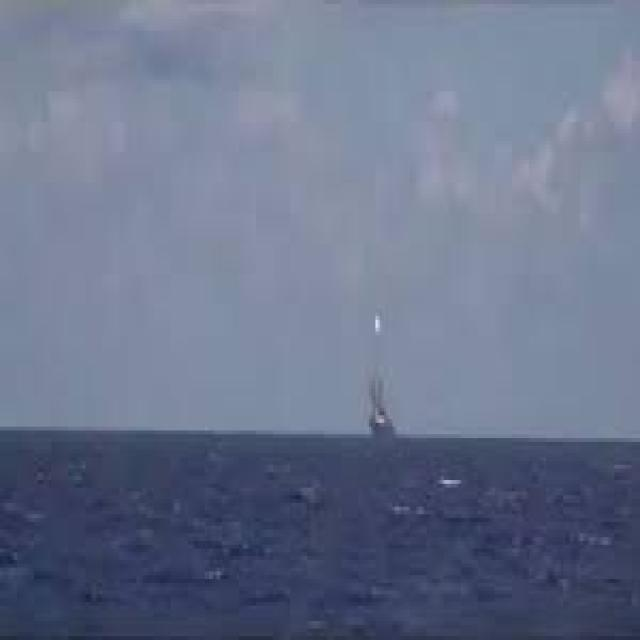fishing boat: (346, 324, 396, 430)
